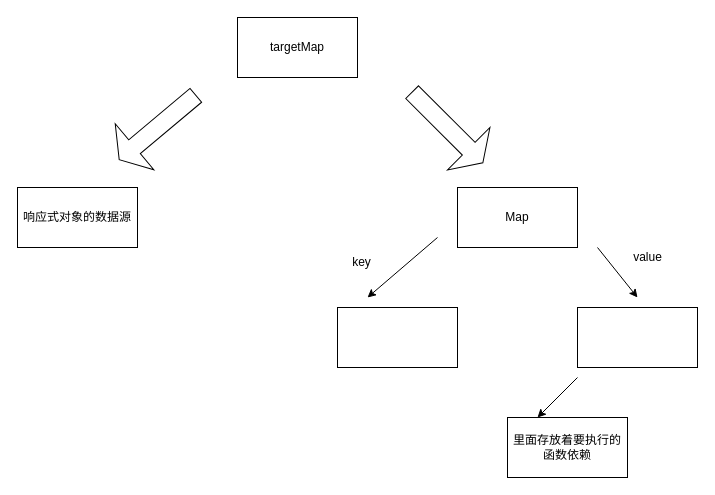
Some shapes in this 715 by 495 pixel diagram are drawn without their labels. The shapes that lost their labels are listed below. From the top down, each one's box as (x1, y1, x2, y2) in pixels, then its label:
(336, 306, 458, 368): name
(576, 306, 698, 368): Set
